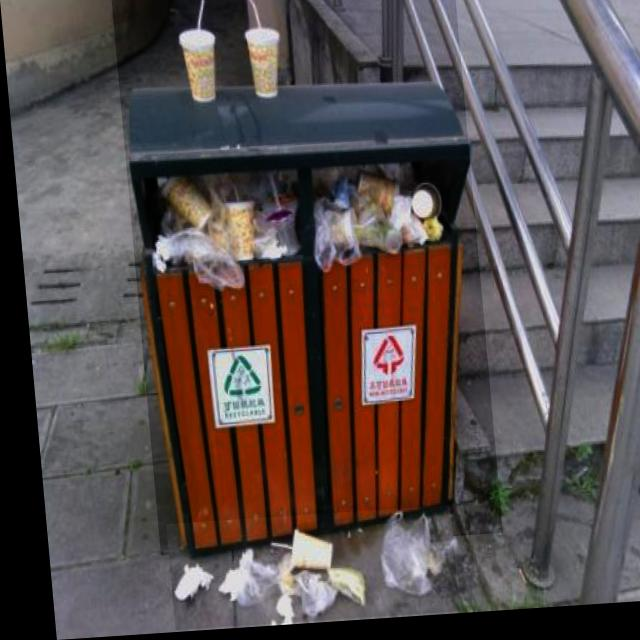garbage: (156, 511, 448, 632)
overflow: (111, 0, 492, 557)
